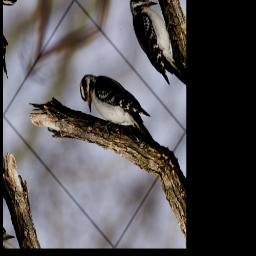Woodpecker: (68, 44, 165, 171)
